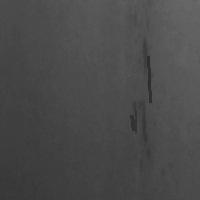inclusion: (130, 97, 155, 174), (136, 31, 153, 80), (146, 54, 152, 104), (129, 113, 135, 132), (133, 109, 137, 135)
